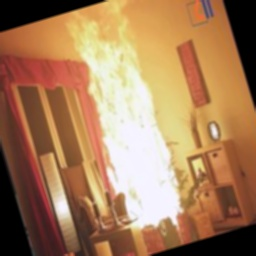fire: (40, 0, 217, 252)
